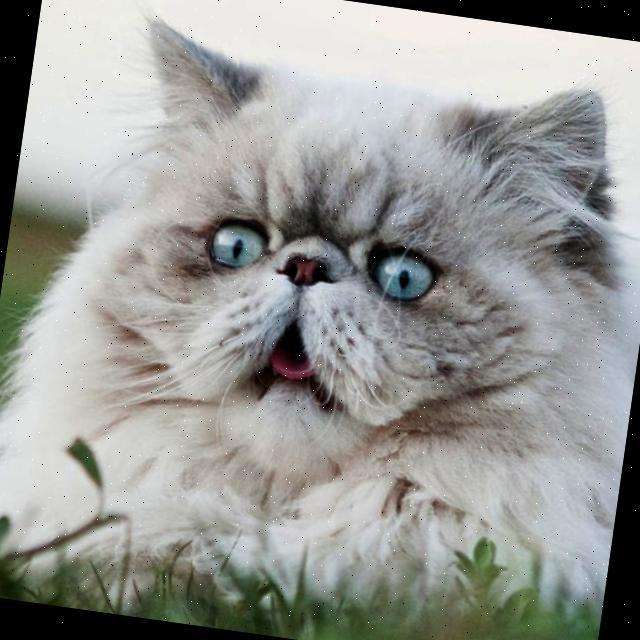Surprised: (112, 131, 493, 468)
